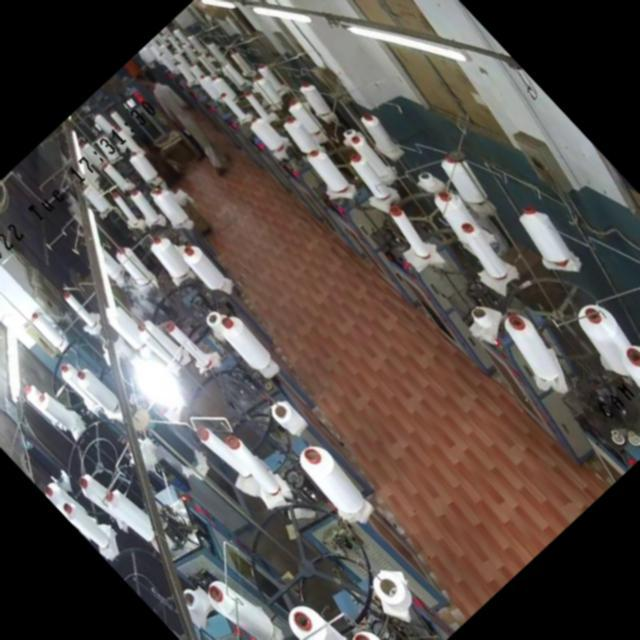person: (142, 72, 235, 170)
